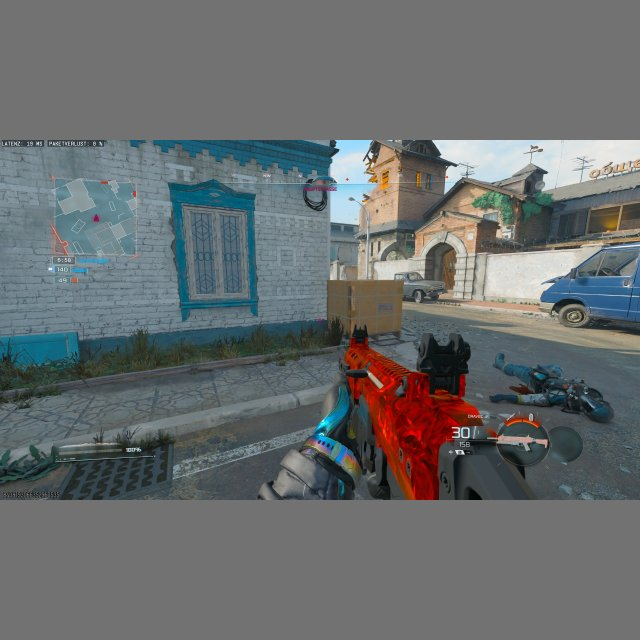head: (582, 388, 614, 424)
